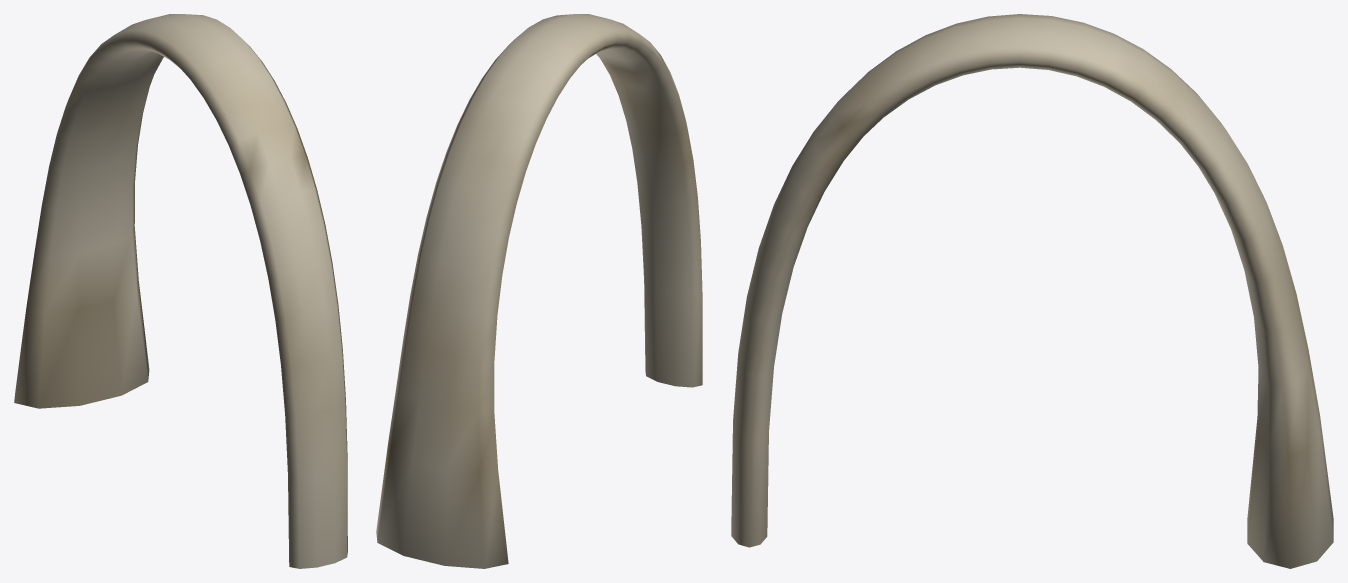
The model's file is bone-rib-arch-b.glb.
The picture shows the model from 3 angles, left to right: view 1: azimuth 30°, elevation 25°; view 2: azimuth 150°, elevation 25°; view 3: azimuth 270°, elevation 25°; orthographic projection. The views are drawn at different scales.
Visible parts, largest first — view 1: bone-rib-arch-b; view 2: bone-rib-arch-b; view 3: bone-rib-arch-b.
Boxes of the visible parts, box(x1,y1,x2,y2) form: bone-rib-arch-b: box(14, 14, 347, 568); bone-rib-arch-b: box(376, 14, 702, 568); bone-rib-arch-b: box(731, 14, 1333, 568).
Size of the model in its own units: 0.33 by 1.04 by 1.11.
